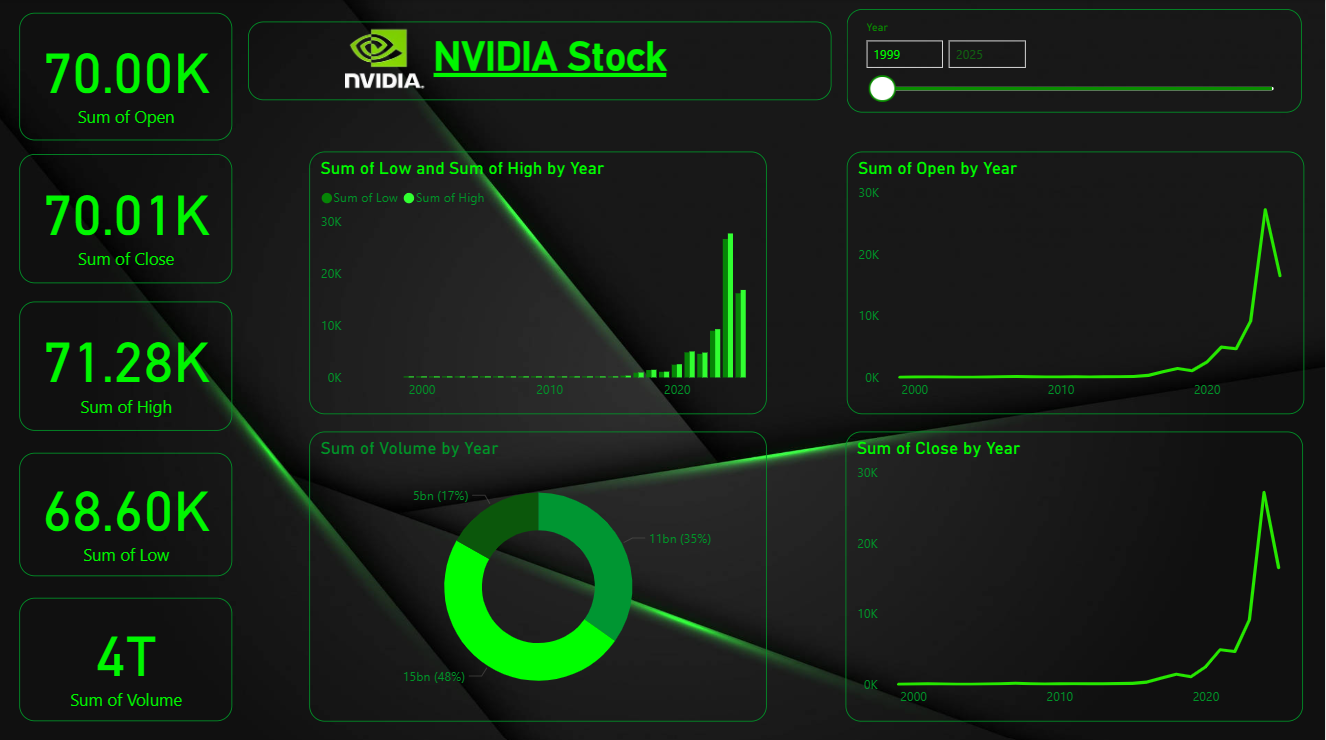

The page's visual inventory and layout, read from the dashboard file:
{"tool":"powerbi","page":{"name":"Page 1","canvas":[1280,720],"ordinal":0},"visuals":[{"type":"slicer","fields":{"Values":["Nvidia_stock_data.Date.Variation.Date Hierarchy.Year"]},"box":[819.2,9.6,439.1,100.2],"z":0},{"type":"lineChart","fields":{"Category":["Nvidia_stock_data.Date.Variation.Date Hierarchy.Year"],"Y":["Sum(Nvidia_stock_data.Open)"]},"box":[819.2,146.8,441.9,253.9],"z":1000},{"type":"donutChart","fields":{"Y":["Sum(Nvidia_stock_data.Volume)"],"Series":["Nvidia_stock_data.Date.Variation.Date Hierarchy.Year"]},"box":[300.5,417.2,441.9,279.9],"z":2000},{"type":"card","fields":{"Values":["Sum(Nvidia_stock_data.High)"]},"box":[20.6,292.3,205.8,124.9],"z":3000},{"type":"card","fields":{"Values":["Sum(Nvidia_stock_data.Low)"]},"box":[20.6,437.7,205.8,119.4],"z":4000},{"type":"card","fields":{"Values":["Sum(Nvidia_stock_data.Close)"]},"box":[20.6,149.6,205.8,124.9],"z":5000},{"type":"card","fields":{"Values":["Sum(Nvidia_stock_data.Volume)"]},"box":[20.6,577.7,205.8,119.4],"z":6000},{"type":"card","fields":{"Values":["Sum(Nvidia_stock_data.Open)"]},"box":[20.6,13.7,205.8,123.5],"z":7000},{"type":"textbox","box":[241.3,21.7,563.4,76],"z":8000},{"type":"lineChart","fields":{"Category":["Nvidia_stock_data.Date.Variation.Date Hierarchy.Year"],"Y":["Sum(Nvidia_stock_data.Close)"]},"box":[817.8,417.2,441.9,279.9],"z":9000},{"type":"lineClusteredColumnComboChart","fields":{"Category":["Nvidia_stock_data.Date.Variation.Date Hierarchy.Year"],"Y":["Sum(Nvidia_stock_data.Low)","Sum(Nvidia_stock_data.High)"]},"box":[300.5,146.8,441.9,253.9],"z":10000},{"type":"image","box":[290.8,0,156.8,109.8],"z":11000}]}

Visuals, with their boxes in screenshot pixels (x1, y1, x2, y2), scaled from the page's 1280x720 canvas onto the 1326x740 screenshot:
slicer - Nvidia_stock_data.Date.Variation.Date Hierarchy.Year: (left=849, top=10, right=1304, bottom=113)
lineChart - Nvidia_stock_data.Date.Variation.Date Hierarchy.Year x Sum(Nvidia_stock_data.Open): (left=849, top=151, right=1306, bottom=412)
donutChart - Sum(Nvidia_stock_data.Volume) x Nvidia_stock_data.Date.Variation.Date Hierarchy.Year: (left=311, top=429, right=769, bottom=716)
card - Sum(Nvidia_stock_data.High): (left=21, top=300, right=235, bottom=429)
card - Sum(Nvidia_stock_data.Low): (left=21, top=450, right=235, bottom=573)
card - Sum(Nvidia_stock_data.Close): (left=21, top=154, right=235, bottom=282)
card - Sum(Nvidia_stock_data.Volume): (left=21, top=594, right=235, bottom=716)
card - Sum(Nvidia_stock_data.Open): (left=21, top=14, right=235, bottom=141)
textbox: (left=250, top=22, right=834, bottom=100)
lineChart - Nvidia_stock_data.Date.Variation.Date Hierarchy.Year x Sum(Nvidia_stock_data.Close): (left=847, top=429, right=1305, bottom=716)
lineClusteredColumnComboChart - Nvidia_stock_data.Date.Variation.Date Hierarchy.Year x Sum(Nvidia_stock_data.Low): (left=311, top=151, right=769, bottom=412)
image: (left=301, top=0, right=464, bottom=113)
